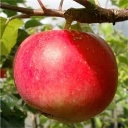apple: (14, 29, 119, 121)
